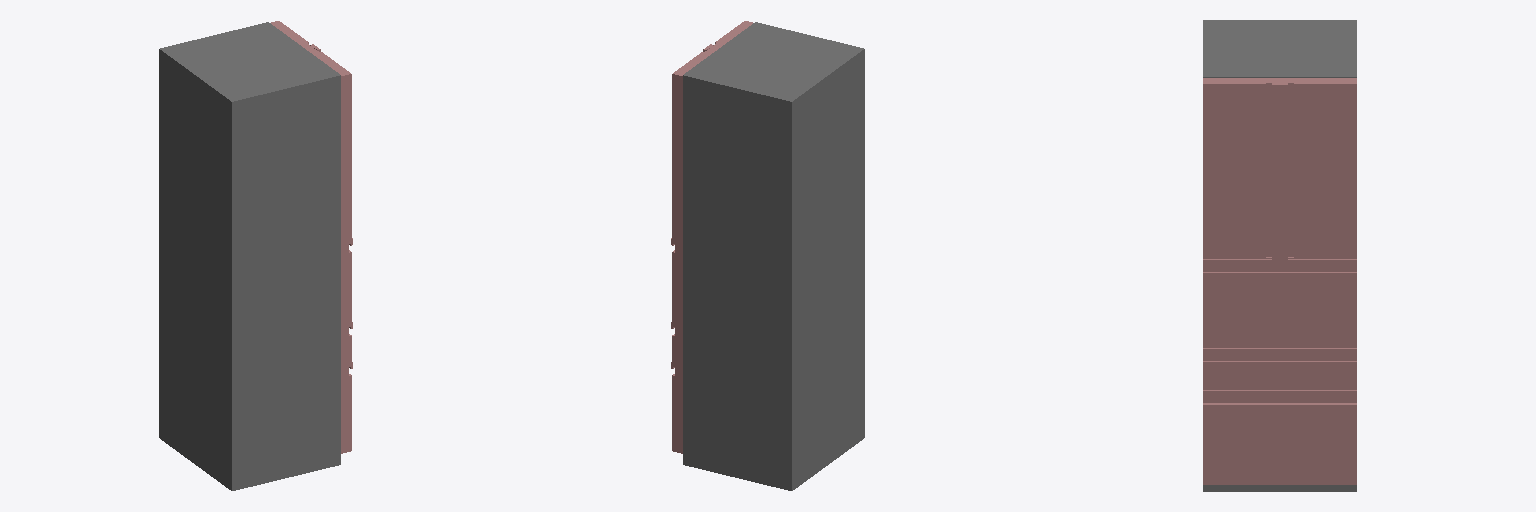
The robot description file, URDF, robot "refrigerator_static":
<?xml version="1.0"?>
<robot name="refrigerator_static"
       xmlns:xi="http://www.w3.org/2001/XInclude"
       >
  <gazebo>
    <static>true</static>
  </gazebo>
  <link name="ROOT_link">
    <visual>
      <origin xyz="0 0 0" rpy="0 -0 0"/>
      <geometry>
        <mesh filename="model://refrigerator/meshes/ROOT_link_mesh.dae" scale="1 1 1" />
      </geometry>
    </visual>
    <collision>
      <origin xyz="0 0 0" rpy="0 -0 0"/>
      <geometry>
        <mesh filename="model://refrigerator/meshes/ROOT_link_mesh.dae" scale="1 1 1" />
      </geometry>
    </collision>
    <inertial>
      <mass value="0.001" />
      <origin xyz="0 0 0" rpy="0 -0 0"/>
      <inertia ixx="1e-03" ixy="0" ixz="0" iyy="1e-03" iyz="0" izz="1e-03"/>
    </inertial>
  </link>
  <gazebo reference="ROOT_link">
    <mu1>0.9</mu1>
    <mu2>0.9</mu2>
  </gazebo>
  <link name="REFRIGERATOR-BODYSET2_link">
    <visual>
      <origin xyz="0.035 0 0.23" rpy="0 -0 0"/>
      <geometry>
        <mesh filename="model://refrigerator/meshes/REFRIGERATOR-BODYSET2_link_mesh.dae" scale="1 1 1" />
      </geometry>
    </visual>
    <collision>
      <origin xyz="0.035 0 0.23" rpy="0 -0 0"/>
      <geometry>
        <mesh filename="model://refrigerator/meshes/REFRIGERATOR-BODYSET2_link_mesh.dae" scale="1 1 1" />
      </geometry>
    </collision>
    <inertial>
      <mass value="0.001" />
      <origin xyz="0 0 0" rpy="0 -0 0"/>
      <inertia ixx="1e-03" ixy="0" ixz="0" iyy="1e-03" iyz="0" izz="1e-03"/>
    </inertial>
  </link>
  <gazebo reference="REFRIGERATOR-BODYSET2_link">
    <mu1>0.9</mu1>
    <mu2>0.9</mu2>
  </gazebo>
  <link name="REFRIGERATOR-BODYSET7_link">
    <visual>
      <origin xyz="0.26 -0.275 1.015" rpy="0 -0 0"/>
      <geometry>
        <mesh filename="model://refrigerator/meshes/REFRIGERATOR-BODYSET7_link_mesh.dae" scale="1 1 1" />
      </geometry>
    </visual>
    <collision>
      <origin xyz="0.26 -0.275 1.015" rpy="0 -0 0"/>
      <geometry>
        <mesh filename="model://refrigerator/meshes/REFRIGERATOR-BODYSET7_link_mesh.dae" scale="1 1 1" />
      </geometry>
    </collision>
    <inertial>
      <mass value="0.001" />
      <origin xyz="0 0 0" rpy="0 -0 0"/>
      <inertia ixx="1e-03" ixy="0" ixz="0" iyy="1e-03" iyz="0" izz="1e-03"/>
    </inertial>
  </link>
  <gazebo reference="REFRIGERATOR-BODYSET7_link">
    <mu1>0.9</mu1>
    <mu2>0.9</mu2>
  </gazebo>
  <link name="REFRIGERATOR-BODYSET4_link">
    <visual>
      <origin xyz="0.035 -0.165 0.525" rpy="0 -0 0"/>
      <geometry>
        <mesh filename="model://refrigerator/meshes/REFRIGERATOR-BODYSET4_link_mesh.dae" scale="1 1 1" />
      </geometry>
    </visual>
    <collision>
      <origin xyz="0.035 -0.165 0.525" rpy="0 -0 0"/>
      <geometry>
        <mesh filename="model://refrigerator/meshes/REFRIGERATOR-BODYSET4_link_mesh.dae" scale="1 1 1" />
      </geometry>
    </collision>
    <inertial>
      <mass value="0.001" />
      <origin xyz="0 0 0" rpy="0 -0 0"/>
      <inertia ixx="1e-03" ixy="0" ixz="0" iyy="1e-03" iyz="0" izz="1e-03"/>
    </inertial>
  </link>
  <gazebo reference="REFRIGERATOR-BODYSET4_link">
    <mu1>0.9</mu1>
    <mu2>0.9</mu2>
  </gazebo>
  <link name="REFRIGERATOR-BODYSET6_link">
    <visual>
      <origin xyz="0.26 0.275 1.015" rpy="0 -0 0"/>
      <geometry>
        <mesh filename="model://refrigerator/meshes/REFRIGERATOR-BODYSET6_link_mesh.dae" scale="1 1 1" />
      </geometry>
    </visual>
    <collision>
      <origin xyz="0.26 0.275 1.015" rpy="0 -0 0"/>
      <geometry>
        <mesh filename="model://refrigerator/meshes/REFRIGERATOR-BODYSET6_link_mesh.dae" scale="1 1 1" />
      </geometry>
    </collision>
    <inertial>
      <mass value="0.001" />
      <origin xyz="0 0 0" rpy="0 -0 0"/>
      <inertia ixx="1e-03" ixy="0" ixz="0" iyy="1e-03" iyz="0" izz="1e-03"/>
    </inertial>
  </link>
  <gazebo reference="REFRIGERATOR-BODYSET6_link">
    <mu1>0.9</mu1>
    <mu2>0.9</mu2>
  </gazebo>
  <link name="REFRIGERATOR-BODYSET3_link">
    <visual>
      <origin xyz="0.035 0.135 0.525" rpy="0 -0 0"/>
      <geometry>
        <mesh filename="model://refrigerator/meshes/REFRIGERATOR-BODYSET3_link_mesh.dae" scale="1 1 1" />
      </geometry>
    </visual>
    <collision>
      <origin xyz="0.035 0.135 0.525" rpy="0 -0 0"/>
      <geometry>
        <mesh filename="model://refrigerator/meshes/REFRIGERATOR-BODYSET3_link_mesh.dae" scale="1 1 1" />
      </geometry>
    </collision>
    <inertial>
      <mass value="0.001" />
      <origin xyz="0 0 0" rpy="0 -0 0"/>
      <inertia ixx="1e-03" ixy="0" ixz="0" iyy="1e-03" iyz="0" izz="1e-03"/>
    </inertial>
  </link>
  <gazebo reference="REFRIGERATOR-BODYSET3_link">
    <mu1>0.9</mu1>
    <mu2>0.9</mu2>
  </gazebo>
  <link name="REFRIGERATOR-BODYSET5_link">
    <visual>
      <origin xyz="0.035 0 0.805" rpy="0 -0 0"/>
      <geometry>
        <mesh filename="model://refrigerator/meshes/REFRIGERATOR-BODYSET5_link_mesh.dae" scale="1 1 1" />
      </geometry>
    </visual>
    <collision>
      <origin xyz="0.035 0 0.805" rpy="0 -0 0"/>
      <geometry>
        <mesh filename="model://refrigerator/meshes/REFRIGERATOR-BODYSET5_link_mesh.dae" scale="1 1 1" />
      </geometry>
    </collision>
    <inertial>
      <mass value="0.001" />
      <origin xyz="0 0 0" rpy="0 -0 0"/>
      <inertia ixx="1e-03" ixy="0" ixz="0" iyy="1e-03" iyz="0" izz="1e-03"/>
    </inertial>
  </link>
  <gazebo reference="REFRIGERATOR-BODYSET5_link">
    <mu1>0.9</mu1>
    <mu2>0.9</mu2>
  </gazebo>
  <joint name="BOTTOM-DRAWER" type="prismatic">
    <parent link="ROOT_link"/>
    <child  link="REFRIGERATOR-BODYSET2_link"/>
    <origin xyz="0.035 0 0.23" rpy="0 -0 0 "/>
    <axis   xyz="1 0 0"/>
    <limit lower="0" upper="0.5" effort="100" velocity="0.01" />
    <dynamics damping="0.2" friction="0" />
  </joint>
  <transmission type="pr2_mechanism_model/SimpleTransmission" name="BOTTOM-DRAWER_trans" >
    <actuator name="BOTTOM-DRAWER_motor" />
    <joint name="BOTTOM-DRAWER" />
    <mechanicalReduction>1</mechanicalReduction>
  </transmission>
  <gazebo reference="BOTTOM-DRAWER">
    <cfmDamping>0.4</cfmDamping>
  </gazebo>
  <joint name="LEFT-DOOR" type="revolute">
    <parent link="ROOT_link"/>
    <child  link="REFRIGERATOR-BODYSET7_link"/>
    <origin xyz="0.26 -0.275 1.015" rpy="0 -0 0 "/>
    <axis   xyz="0 0 -1"/>
    <limit lower="0" upper="1.5708" effort="100" velocity="0.5" />
    <dynamics damping="0.2" friction="0" />
  </joint>
  <transmission type="pr2_mechanism_model/SimpleTransmission" name="LEFT-DOOR_trans" >
    <actuator name="LEFT-DOOR_motor" />
    <joint name="LEFT-DOOR" />
    <mechanicalReduction>1</mechanicalReduction>
  </transmission>
  <gazebo reference="LEFT-DOOR">
    <cfmDamping>0.4</cfmDamping>
  </gazebo>
  <joint name="LEFT-FREEZER" type="prismatic">
    <parent link="ROOT_link"/>
    <child  link="REFRIGERATOR-BODYSET4_link"/>
    <origin xyz="0.035 -0.165 0.525" rpy="0 -0 0 "/>
    <axis   xyz="1 0 0"/>
    <limit lower="0" upper="0.5" effort="100" velocity="0.01" />
    <dynamics damping="0.2" friction="0" />
  </joint>
  <transmission type="pr2_mechanism_model/SimpleTransmission" name="LEFT-FREEZER_trans" >
    <actuator name="LEFT-FREEZER_motor" />
    <joint name="LEFT-FREEZER" />
    <mechanicalReduction>1</mechanicalReduction>
  </transmission>
  <gazebo reference="LEFT-FREEZER">
    <cfmDamping>0.4</cfmDamping>
  </gazebo>
  <joint name="RIGHT-DOOR" type="revolute">
    <parent link="ROOT_link"/>
    <child  link="REFRIGERATOR-BODYSET6_link"/>
    <origin xyz="0.26 0.275 1.015" rpy="0 -0 0 "/>
    <axis   xyz="0 0 1"/>
    <limit lower="0" upper="1.5708" effort="100" velocity="0.5" />
    <dynamics damping="0.2" friction="0" />
  </joint>
  <transmission type="pr2_mechanism_model/SimpleTransmission" name="RIGHT-DOOR_trans" >
    <actuator name="RIGHT-DOOR_motor" />
    <joint name="RIGHT-DOOR" />
    <mechanicalReduction>1</mechanicalReduction>
  </transmission>
  <gazebo reference="RIGHT-DOOR">
    <cfmDamping>0.4</cfmDamping>
  </gazebo>
  <joint name="RIGHT-FREEZER" type="prismatic">
    <parent link="ROOT_link"/>
    <child  link="REFRIGERATOR-BODYSET3_link"/>
    <origin xyz="0.035 0.135 0.525" rpy="0 -0 0 "/>
    <axis   xyz="1 0 0"/>
    <limit lower="0" upper="0.5" effort="100" velocity="0.01" />
    <dynamics damping="0.2" friction="0" />
  </joint>
  <transmission type="pr2_mechanism_model/SimpleTransmission" name="RIGHT-FREEZER_trans" >
    <actuator name="RIGHT-FREEZER_motor" />
    <joint name="RIGHT-FREEZER" />
    <mechanicalReduction>1</mechanicalReduction>
  </transmission>
  <gazebo reference="RIGHT-FREEZER">
    <cfmDamping>0.4</cfmDamping>
  </gazebo>
  <joint name="VEGETABLE-DRAWER" type="prismatic">
    <parent link="ROOT_link"/>
    <child  link="REFRIGERATOR-BODYSET5_link"/>
    <origin xyz="0.035 0 0.805" rpy="0 -0 0 "/>
    <axis   xyz="1 0 0"/>
    <limit lower="0" upper="0.5" effort="100" velocity="0.01" />
    <dynamics damping="0.2" friction="0" />
  </joint>
  <transmission type="pr2_mechanism_model/SimpleTransmission" name="VEGETABLE-DRAWER_trans" >
    <actuator name="VEGETABLE-DRAWER_motor" />
    <joint name="VEGETABLE-DRAWER" />
    <mechanicalReduction>1</mechanicalReduction>
  </transmission>
  <gazebo reference="VEGETABLE-DRAWER">
    <cfmDamping>0.4</cfmDamping>
  </gazebo>
</robot>

--- What the picture shows (computed from the rendered views, not written in the file) ---
Views: 3 orthographic renders of the robot side by side, from view 1: azimuth 30°, elevation 25°; view 2: azimuth 150°, elevation 25°; view 3: azimuth 270°, elevation 25°.
Robot: refrigerator_static — 7 links, 6 joints (2 revolute, 4 prismatic); root link ROOT_link; default pose: every joint at zero.
Visible links, largest first — view 1: ROOT_link, REFRIGERATOR-BODYSET7_link, REFRIGERATOR-BODYSET2_link, REFRIGERATOR-BODYSET5_link; view 2: ROOT_link, REFRIGERATOR-BODYSET6_link, REFRIGERATOR-BODYSET2_link, REFRIGERATOR-BODYSET5_link; view 3: REFRIGERATOR-BODYSET2_link, REFRIGERATOR-BODYSET6_link, REFRIGERATOR-BODYSET7_link, REFRIGERATOR-BODYSET5_link, ROOT_link, REFRIGERATOR-BODYSET3_link, REFRIGERATOR-BODYSET4_link.
Link boxes in pixels (box(x1,y1,x2,y2)): ROOT_link: box(159, 22, 340, 490); REFRIGERATOR-BODYSET7_link: box(306, 47, 351, 240); REFRIGERATOR-BODYSET2_link: box(341, 361, 352, 453); REFRIGERATOR-BODYSET5_link: box(341, 238, 352, 323); ROOT_link: box(683, 22, 864, 490); REFRIGERATOR-BODYSET6_link: box(672, 47, 717, 240); REFRIGERATOR-BODYSET2_link: box(671, 361, 682, 453); REFRIGERATOR-BODYSET5_link: box(671, 238, 682, 323); REFRIGERATOR-BODYSET2_link: box(1203, 389, 1356, 484); REFRIGERATOR-BODYSET6_link: box(1280, 78, 1356, 259); REFRIGERATOR-BODYSET7_link: box(1203, 78, 1279, 259); REFRIGERATOR-BODYSET5_link: box(1203, 257, 1356, 346); ROOT_link: box(1203, 20, 1356, 491); REFRIGERATOR-BODYSET3_link: box(1272, 347, 1356, 388); REFRIGERATOR-BODYSET4_link: box(1203, 347, 1271, 388).
Size in the robot's own frame: 0.5775 by 0.6 by 1.77 metres.
7 mesh visuals loaded from 7 distinct referenced files (7 Collada DAE).